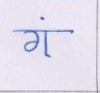anusvara: (41, 17, 44, 19)
